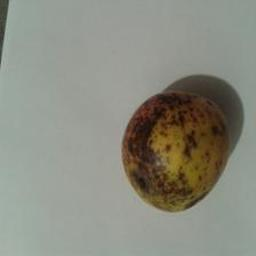Mango Rotten: (115, 85, 239, 216)
